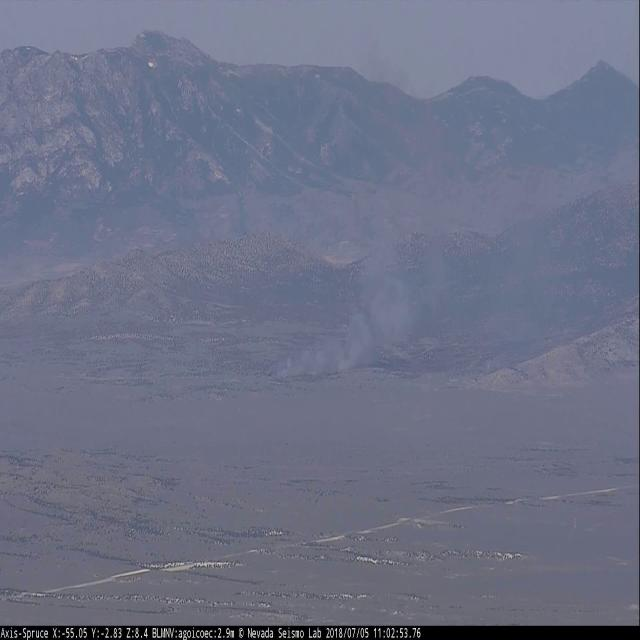smoke: (273, 122, 498, 382)
